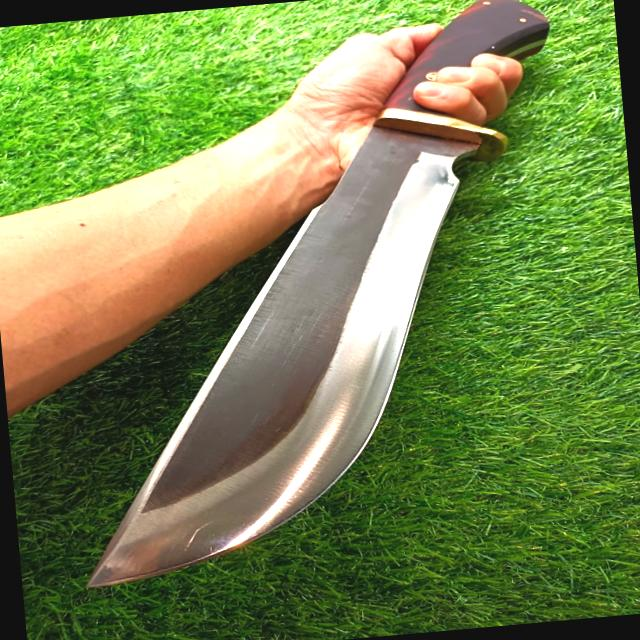eto: (69, 0, 576, 605)
